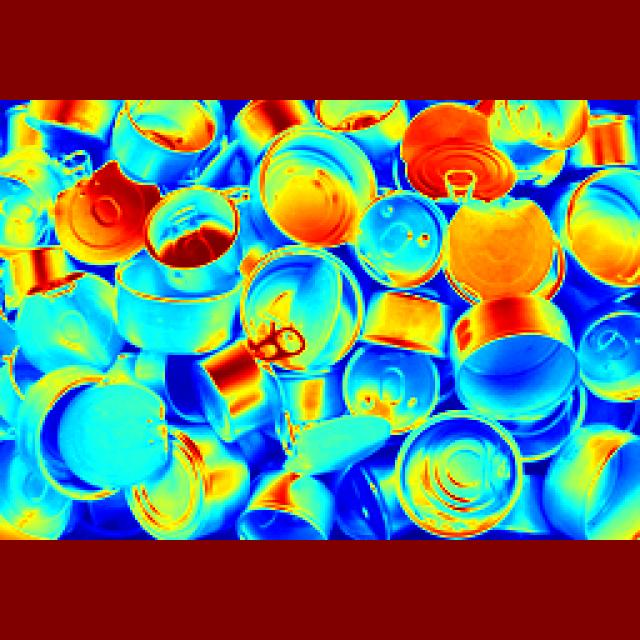Aluminium Food Cans: (37, 354, 174, 521), (234, 252, 380, 391), (398, 414, 530, 542), (453, 314, 596, 422), (2, 260, 125, 374), (214, 466, 333, 560), (138, 183, 240, 289), (550, 420, 640, 525), (557, 175, 640, 286), (408, 129, 519, 211), (97, 118, 217, 192), (200, 346, 281, 447)
